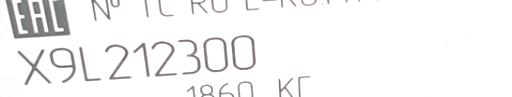letter: (458, 10, 494, 51), (14, 47, 48, 84), (229, 33, 259, 74), (102, 43, 134, 80), (406, 14, 434, 55), (262, 28, 290, 69), (48, 45, 78, 82), (348, 21, 376, 60), (320, 23, 346, 62), (292, 26, 318, 65), (202, 35, 228, 74), (175, 36, 201, 75), (150, 39, 176, 78), (377, 18, 403, 55), (128, 40, 152, 79), (78, 44, 102, 81), (434, 13, 456, 52)
